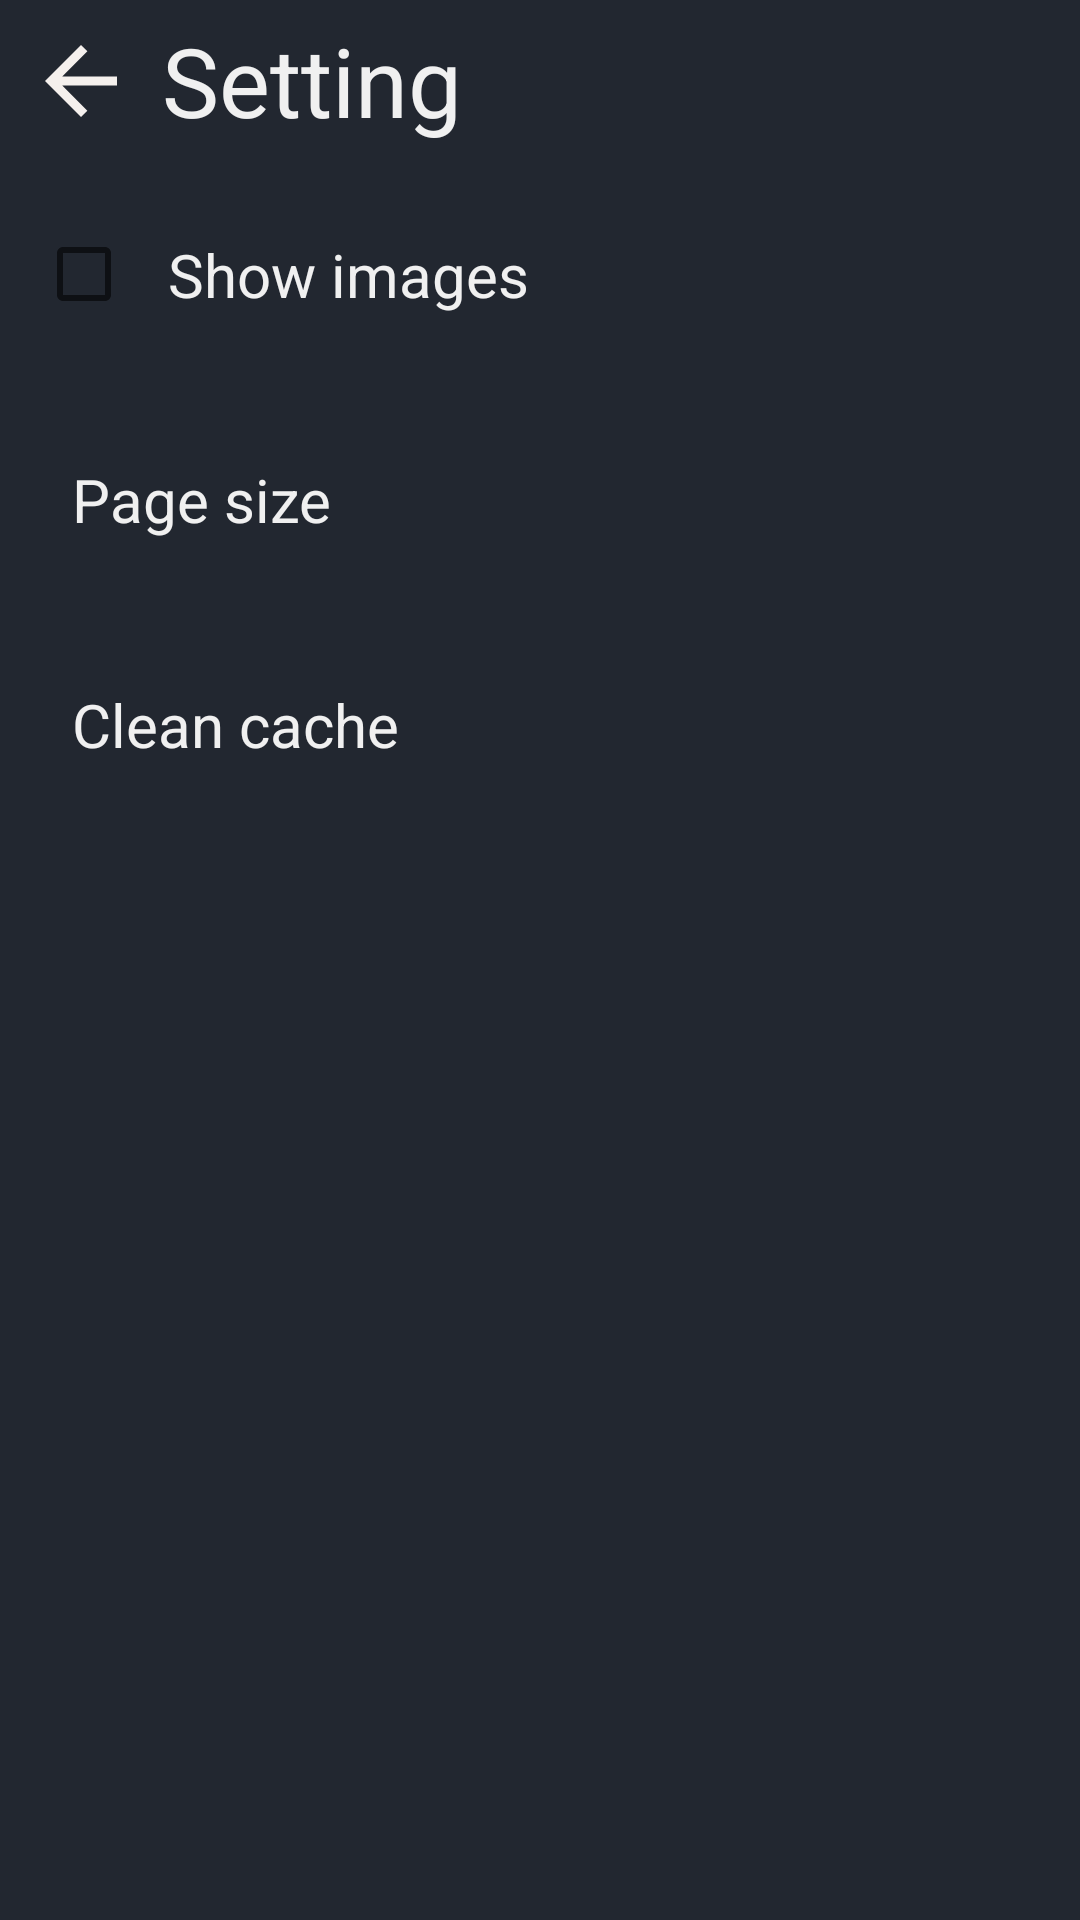

Point at icon controls on the screen. Image size 1080w x 1920h, points as point (x, y).
back: point (81, 81)
